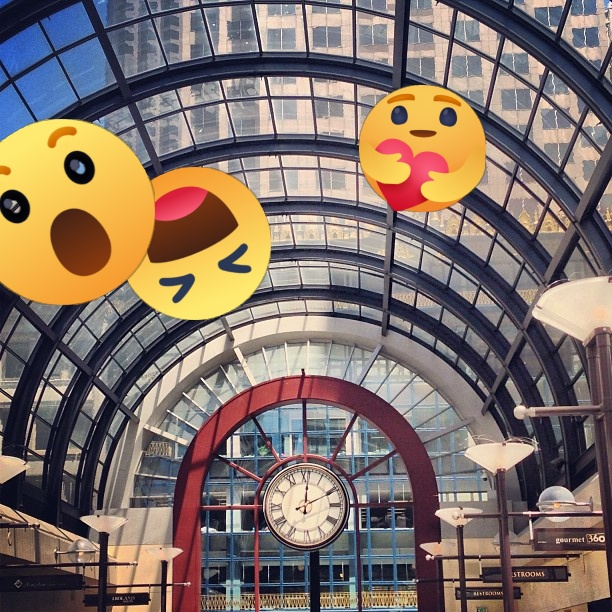care: (359, 85, 486, 212)
haha: (118, 167, 271, 320)
wow: (0, 119, 155, 305)
